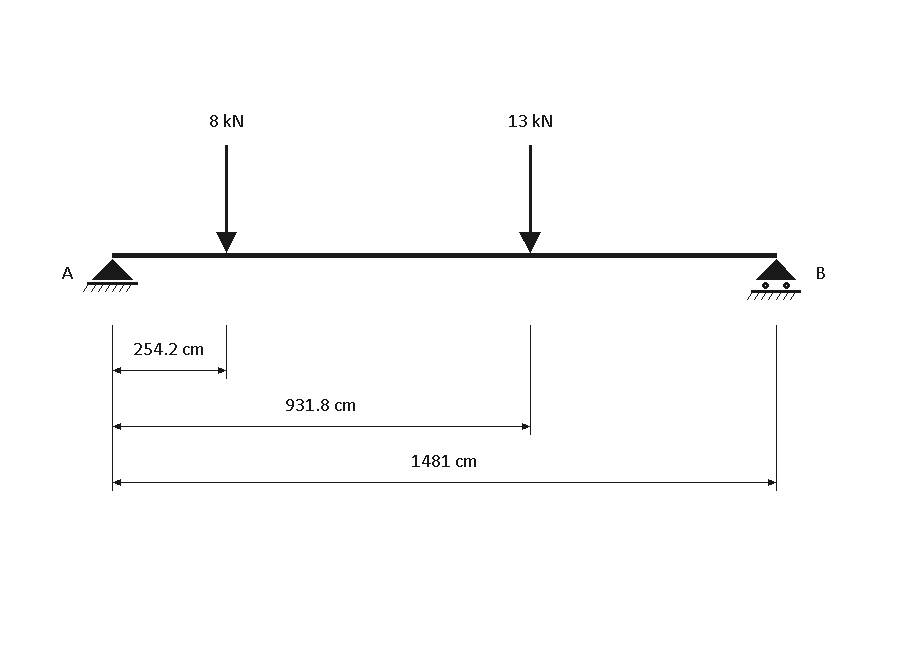pin_support: (83, 259, 138, 292)
point_load: (519, 145, 541, 253), (216, 145, 237, 253)
roller_support: (747, 259, 801, 300)
